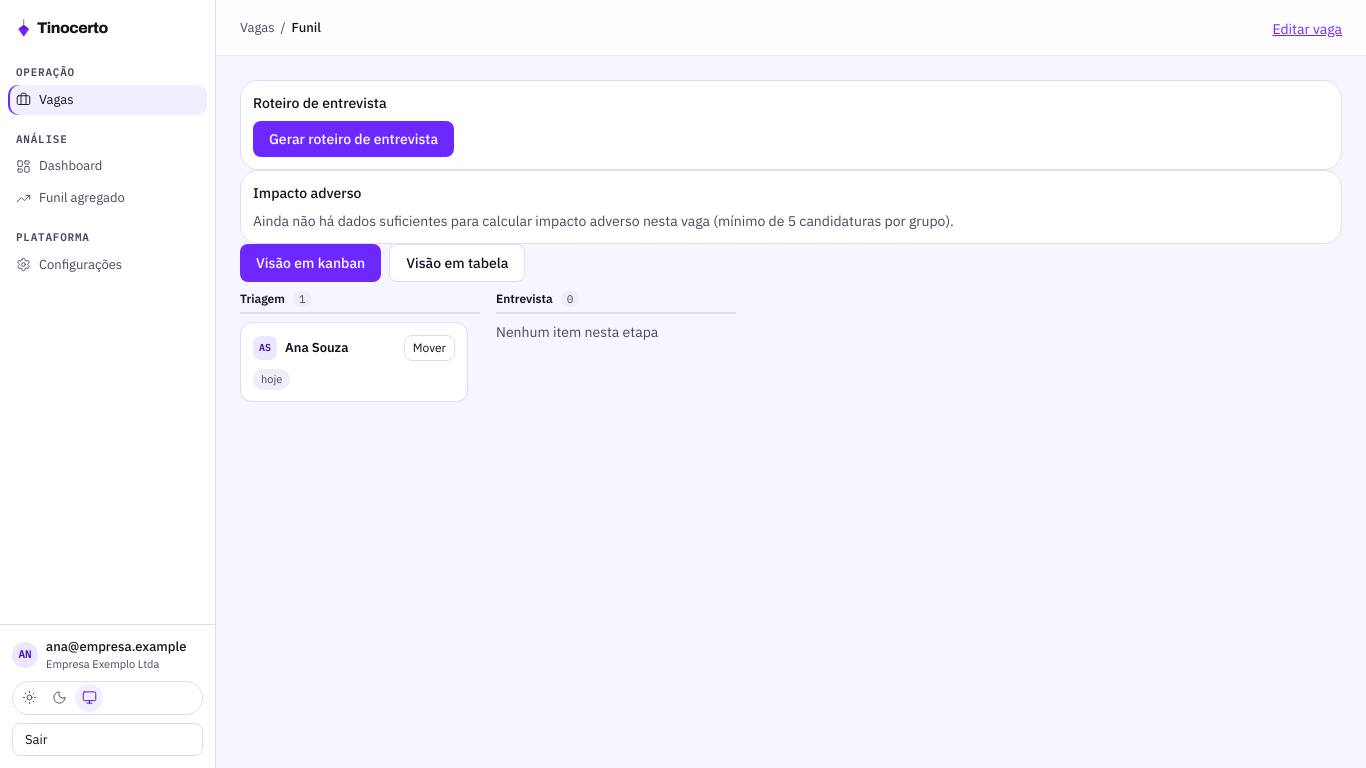
Test: FunilPage › alterna para a visao de tabela e mostra as candidaturas em linhas
The image size is (1366, 768).
Check: the link "Ana Souza" is shown, box 285,339 -> 348,356
Click the button "Visão em tabela" at coordinates (457, 263), box 389,244 -> 525,282
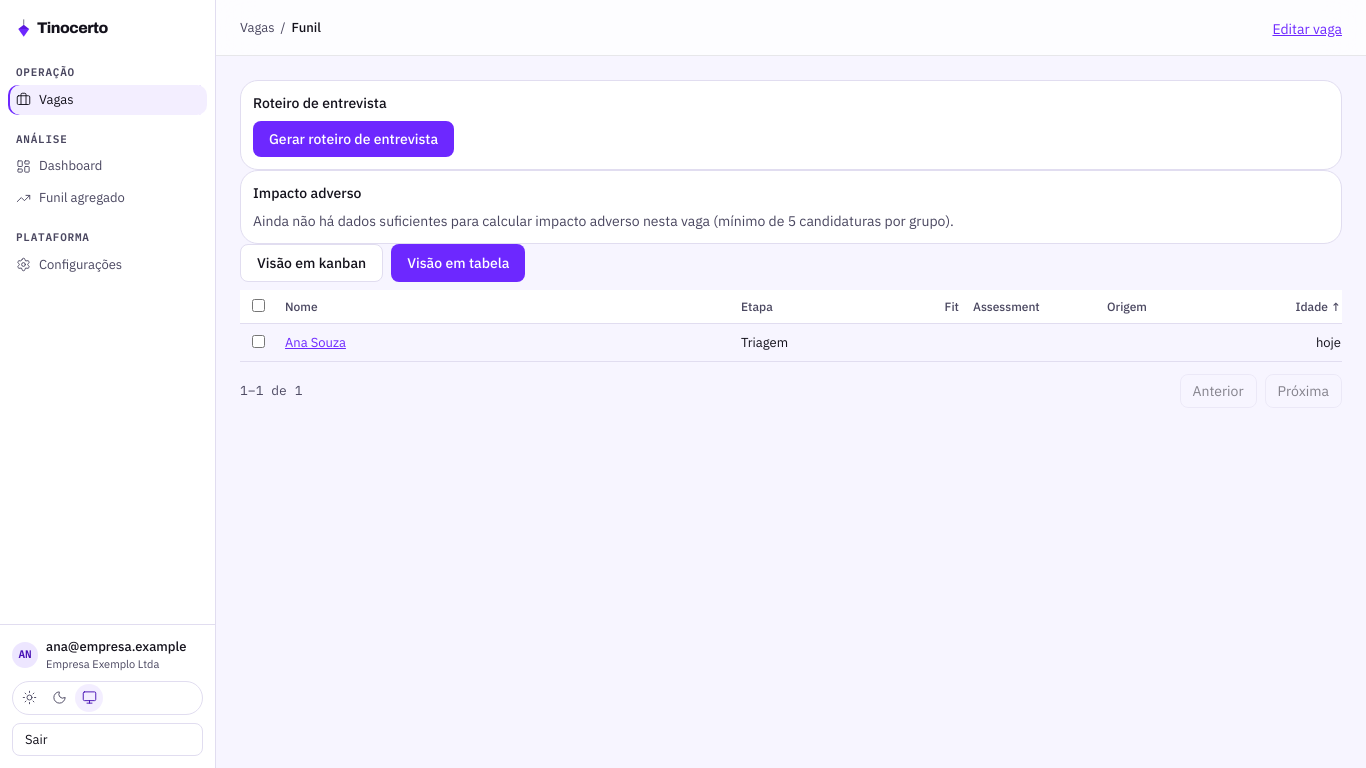
Check: the link "Ana Souza" is shown, box 285,334 -> 346,350
Check: the table is shown, box 240,290 -> 1342,362
